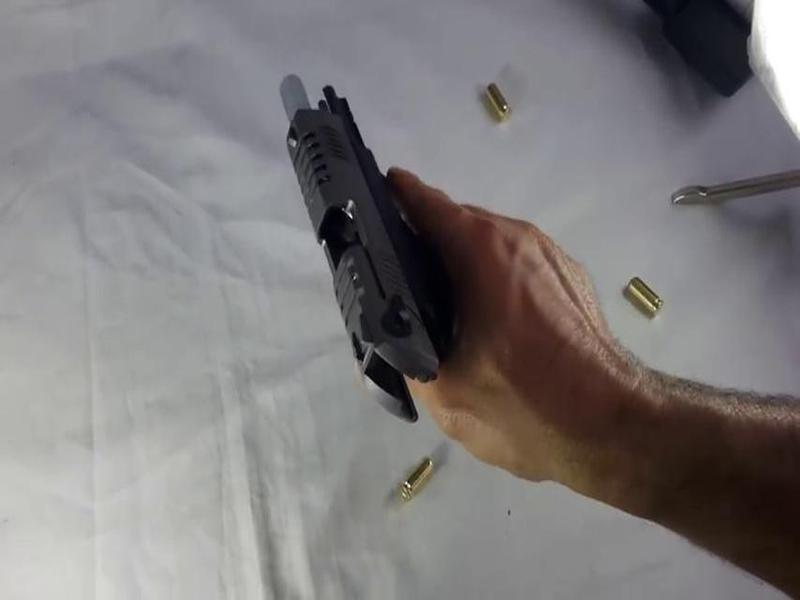Pistola: (259, 53, 503, 466)
